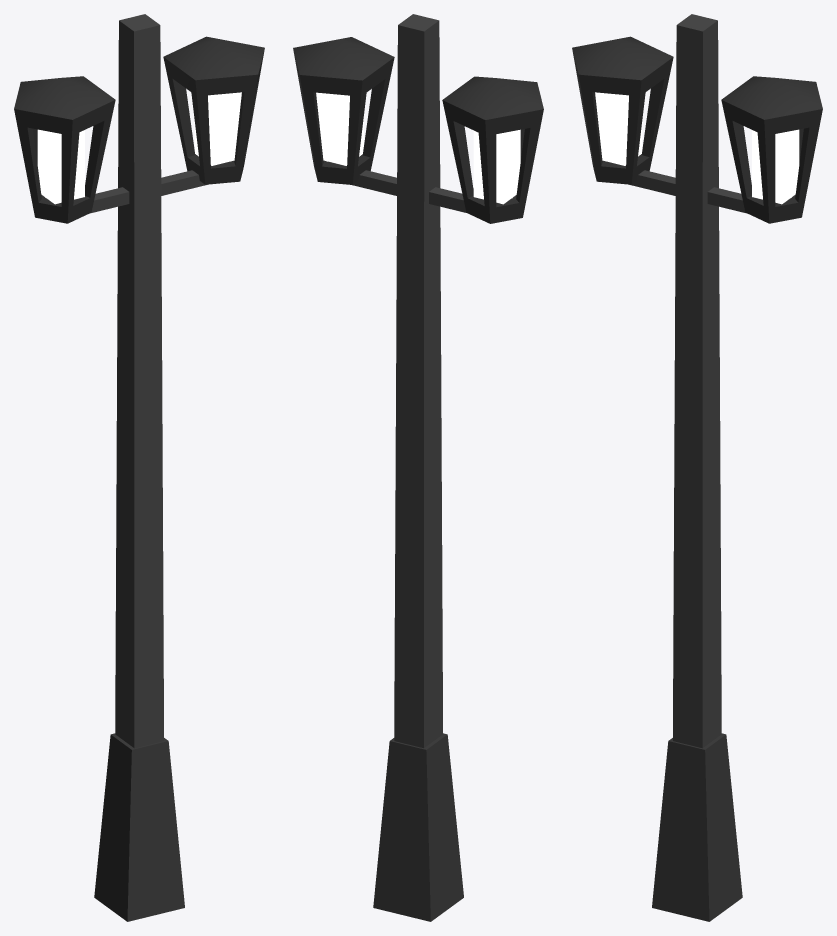
Rendered from Streetlamp.fbx.
The picture shows the model from 3 angles, left to right: view 1: azimuth 30°, elevation 25°; view 2: azimuth 150°, elevation 25°; view 3: azimuth 330°, elevation 25°; orthographic projection.
Visible parts, largest first — view 1: Model_1_Alive.003, Model_0_Alive.002, Model_0_Dead.003; view 2: Model_1_Alive.003, Model_0_Alive.002, Model_0_Dead.003; view 3: Model_1_Alive.003, Model_0_Alive.002, Model_0_Dead.003.
Boxes of the visible parts, box(x1,y1,x2,y2) form: Model_1_Alive.003: box(14, 14, 263, 748); Model_0_Alive.002: box(14, 36, 264, 748); Model_0_Dead.003: box(94, 733, 184, 921); Model_1_Alive.003: box(300, 14, 537, 748); Model_0_Alive.002: box(293, 37, 543, 748); Model_0_Dead.003: box(373, 733, 463, 921); Model_1_Alive.003: box(573, 14, 822, 748); Model_0_Alive.002: box(572, 36, 822, 748); Model_0_Dead.003: box(652, 733, 742, 921).
Size of what is drawn, in the model's own units: 2.39 by 8 by 0.856.
1 material, 1 textured.
